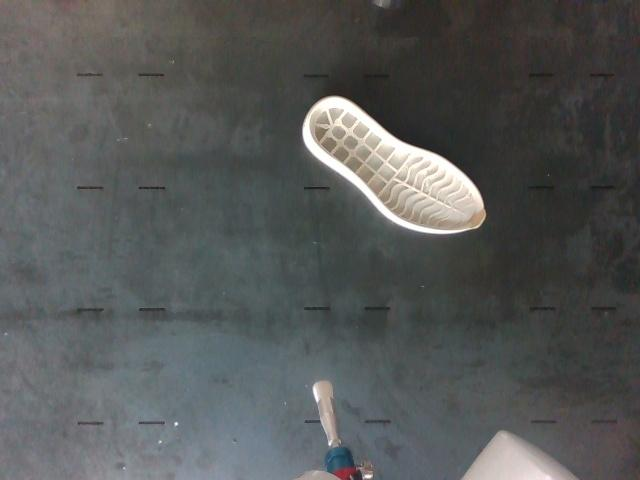shoes: (309, 97, 485, 232)
